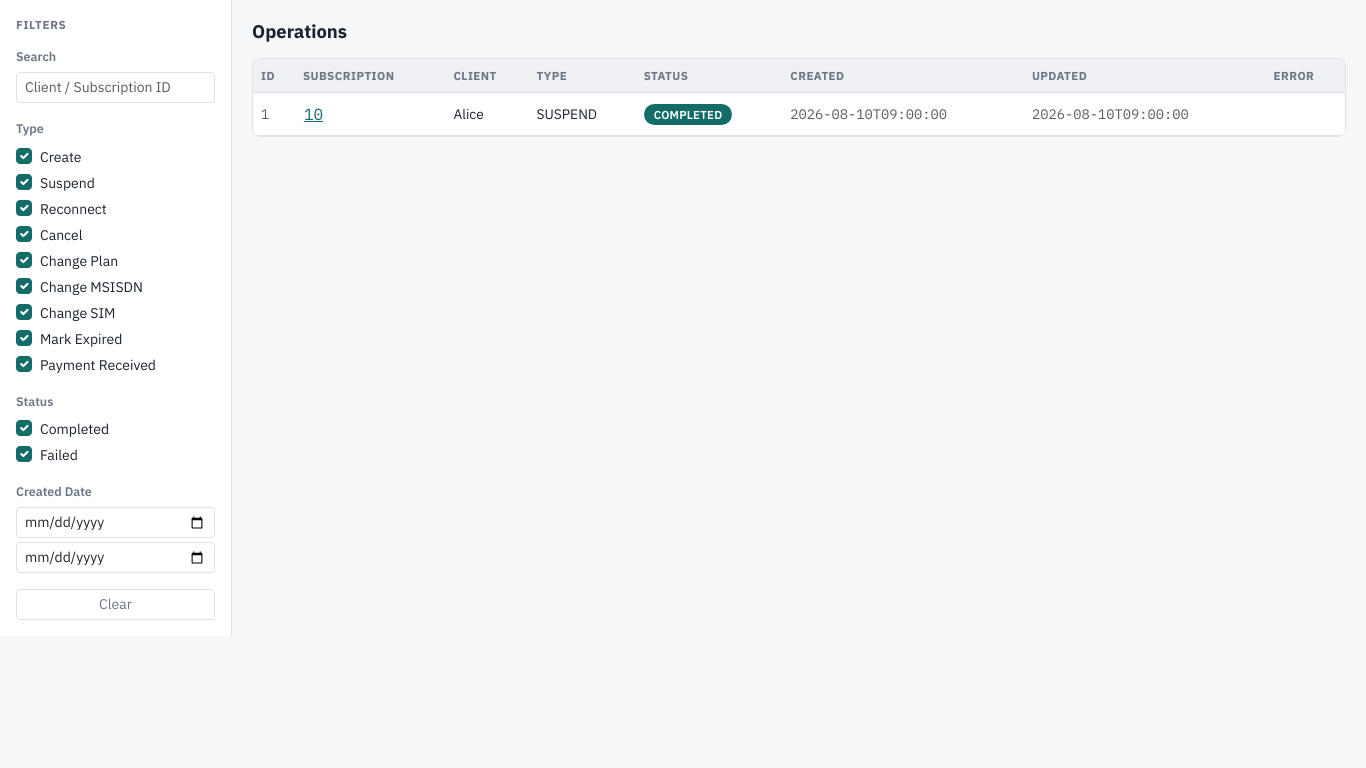
Test case: shows a no-match message and Clear resets every filter
This screenshot has width=1366, height=768.
Expected: the text "Alice" is shown, [445, 93, 528, 136]
What coordinates should you click on to do the following:
click the checkbox labelled "Suspend"
I would click on:
 (24, 182)
Its box is [16, 174, 32, 190].
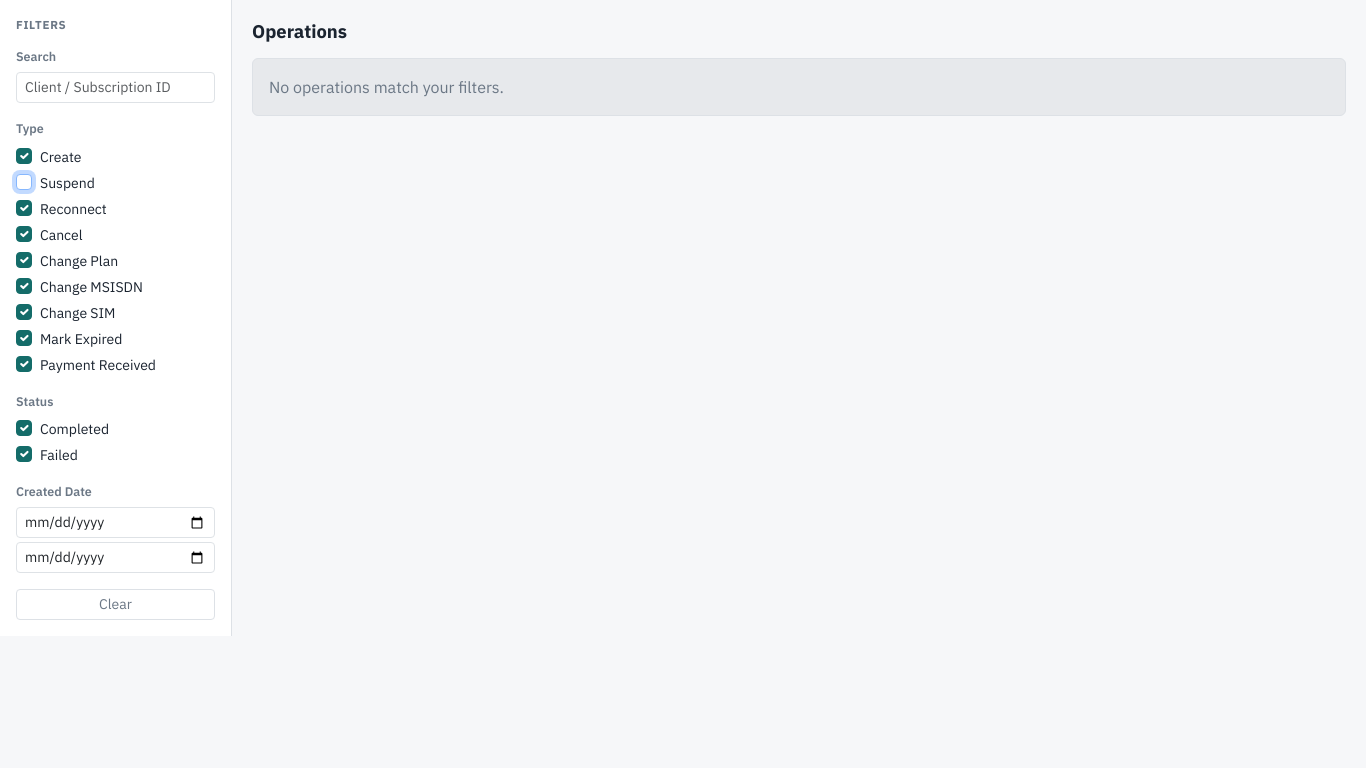
Now the text "No operations match your filters." is shown, box [252, 58, 1346, 116]
What coordinates should you click on to do the following:
click the button "Clear"
I would click on:
 (116, 605)
Its box is [16, 589, 215, 620].
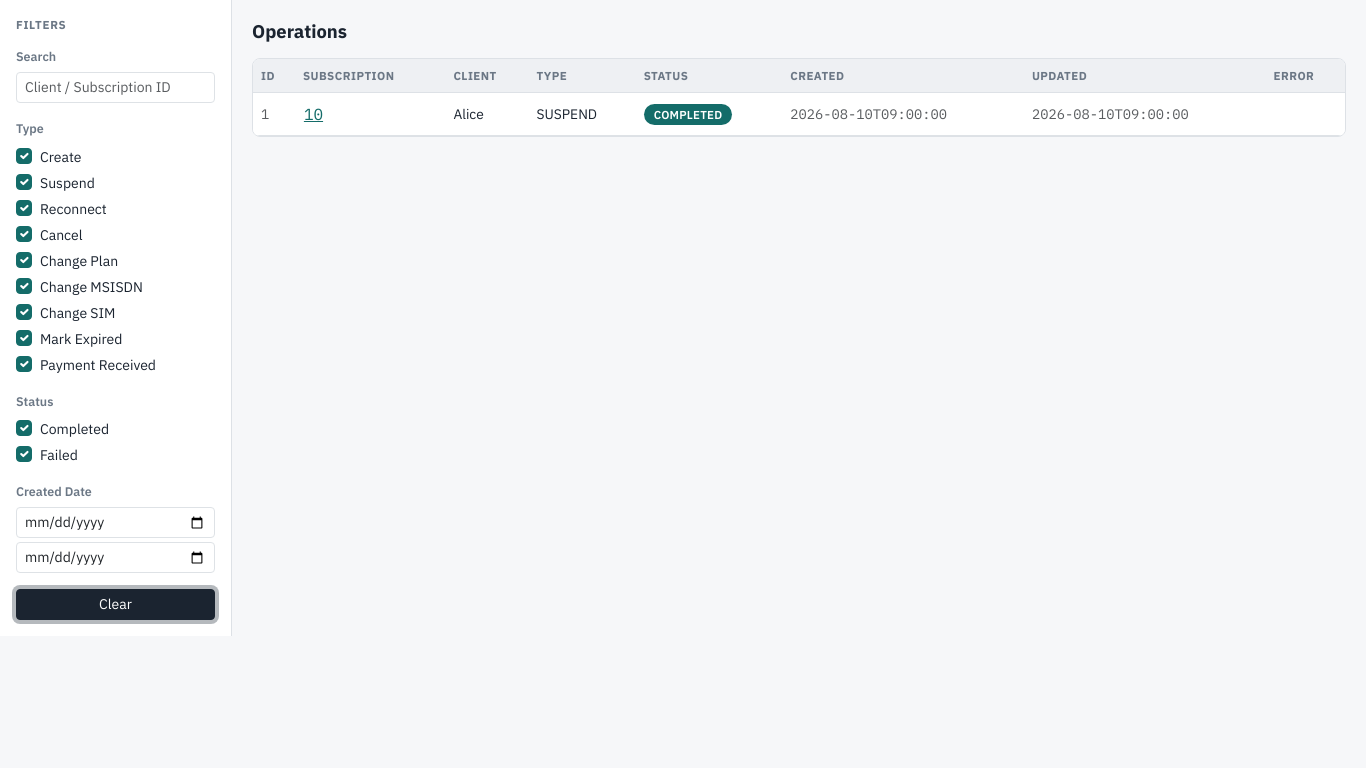
Now the text "Alice" is shown, box [445, 93, 528, 136]
